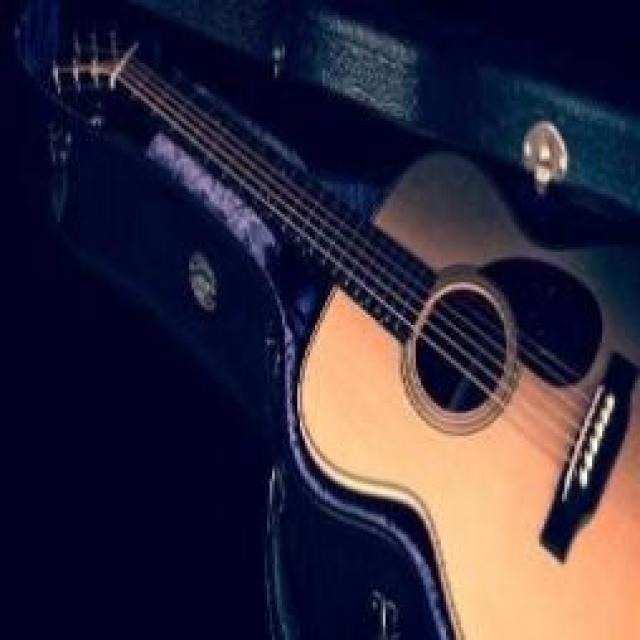acousticguitar: (93, 43, 637, 637)
